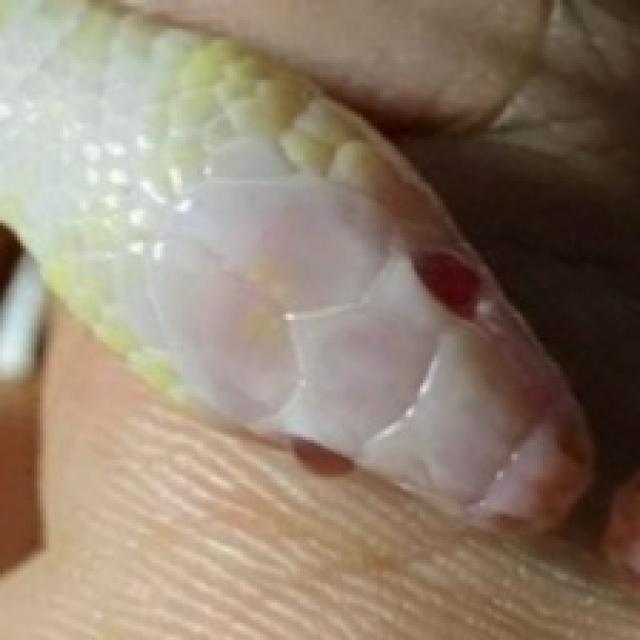gunthers philippine shrub snake: (0, 0, 637, 637), (0, 0, 589, 526)
